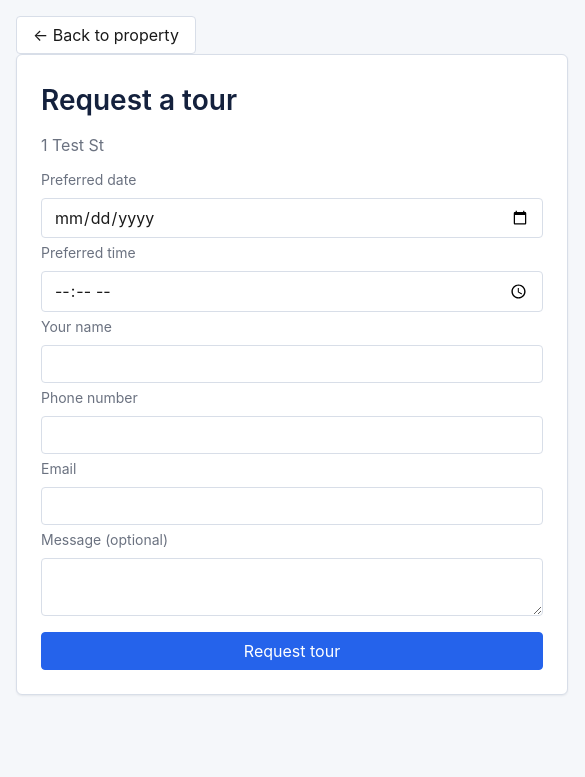
Test case: TourRequestPage › submits the form and shows a confirmation message when the email was sent
The width and height of the screenshot is (585, 777).
Expected: the text "1 Test St" is shown, [41, 135, 104, 155]
Type "2026-10-01" into the date field labelled "Preferred date". click: (292, 218)
box: [41, 198, 543, 238]
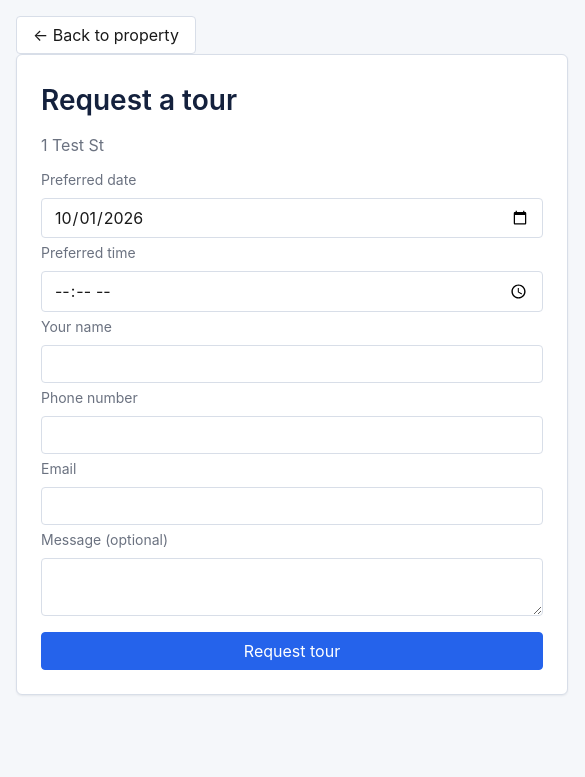
Type "14:30" into the time field labelled "Preferred time". click: (292, 291)
box: [41, 271, 543, 312]
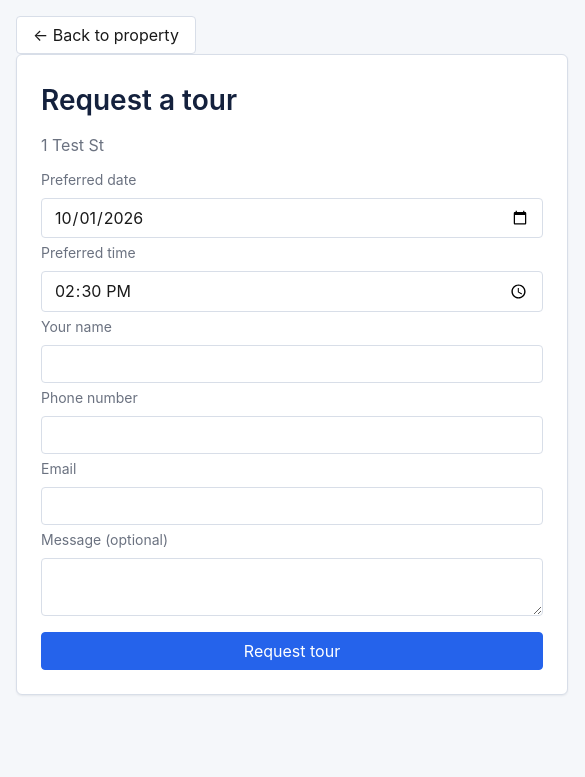
Type "Jordan Buyer" into the field labelled "Your name". click: (292, 364)
box: [41, 345, 543, 383]
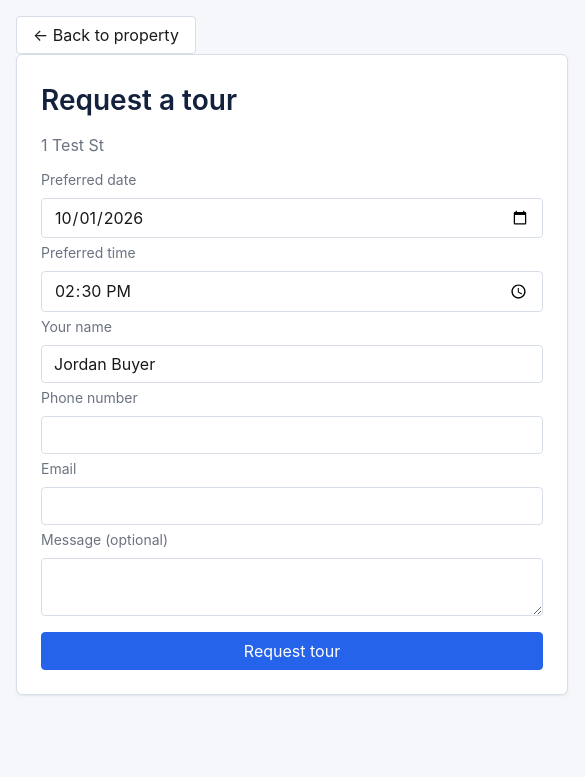
Type "555-0100" into the field labelled "Phone number". click: (292, 435)
box: [41, 416, 543, 454]
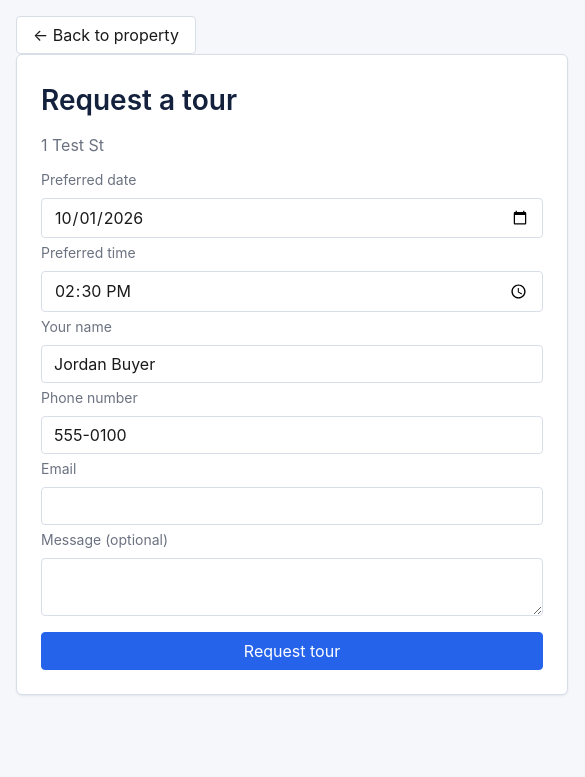
Type "jordan@example.com" into the field labelled "Email". click: (292, 506)
box: [41, 487, 543, 525]
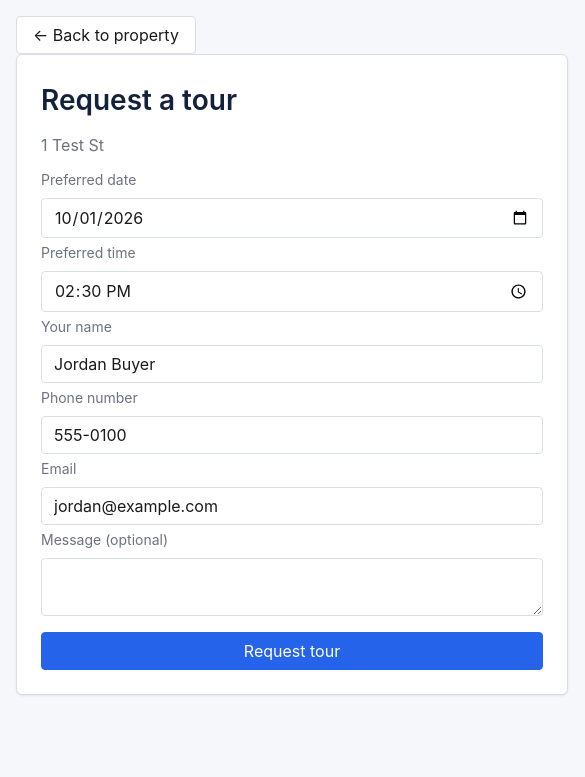
Click the button "Request tour". click: (292, 651)
box: [41, 632, 543, 670]
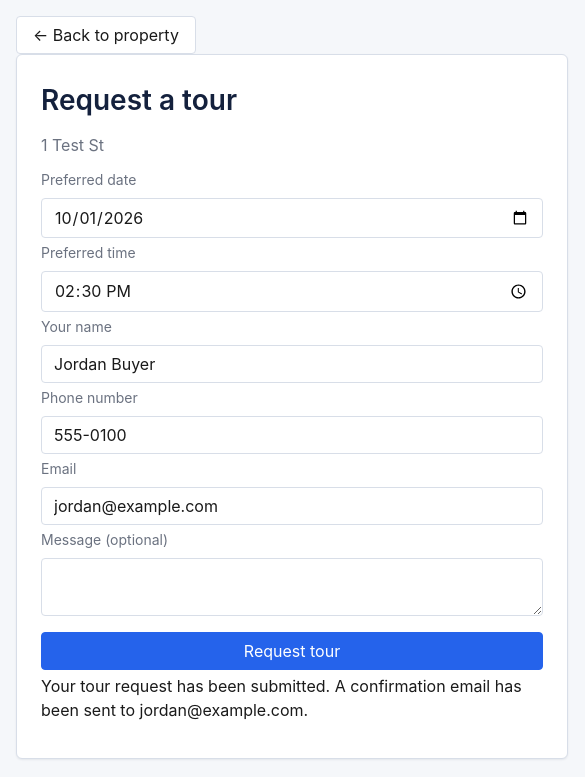
Now the text "confirmation email has been sent to jordan@example.com" is shown, box [41, 676, 522, 720]
